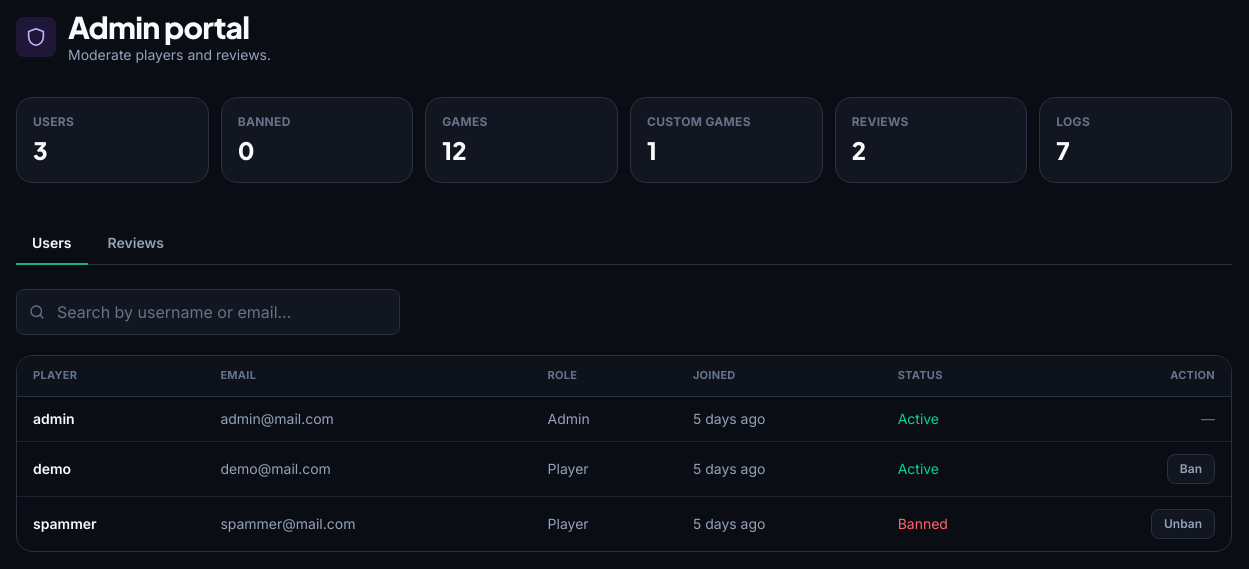
Scenario: AdminView › moderates reviews in their own tab
Click the button with test id "tab-reviews". click: [136, 244]
box: [92,223,180,265]
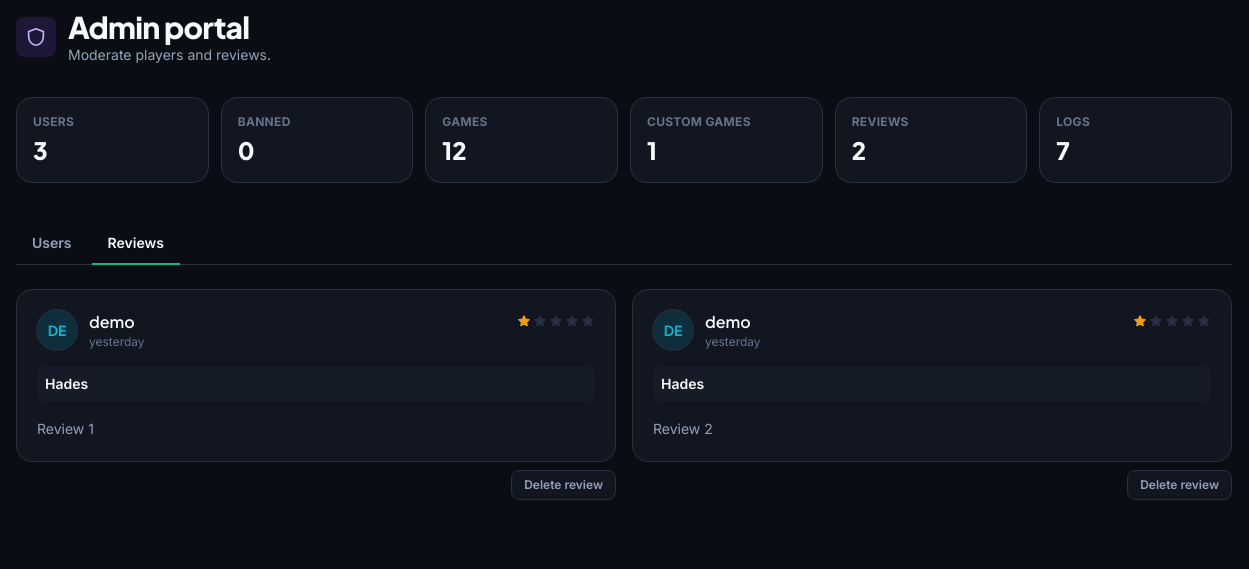
Check: the element with test id "reviews" shows "Review 1", box [37,420,94,437]
